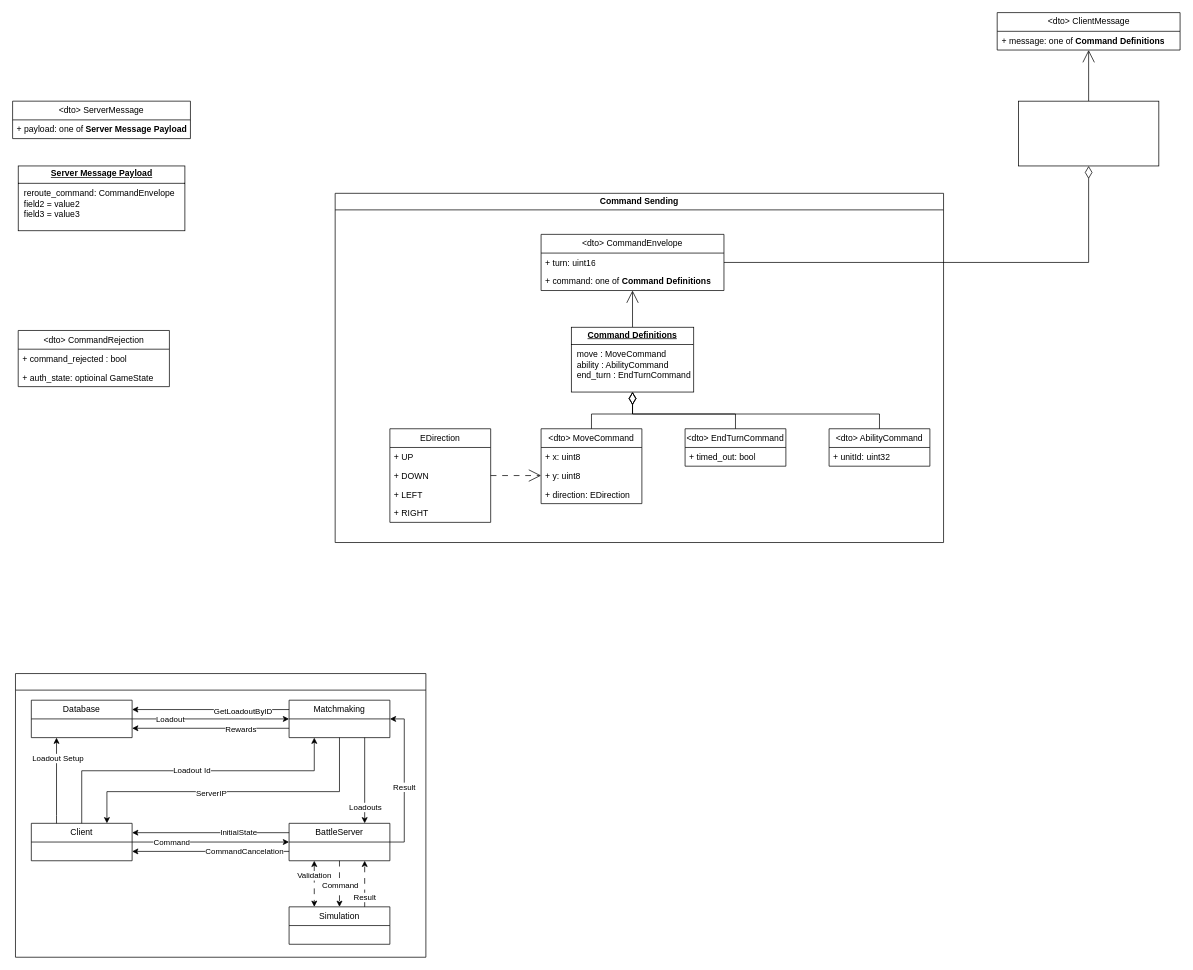
Image size: 1193x970. Some labels were removed from this diagram. The centre of each missing label's shape, as x and y in pixels:
"Client Messages command : CommandEnvelope field2 = value2 field3 = value3" belongs at point (1088, 133).
"Message Passing" belongs at point (220, 815).
